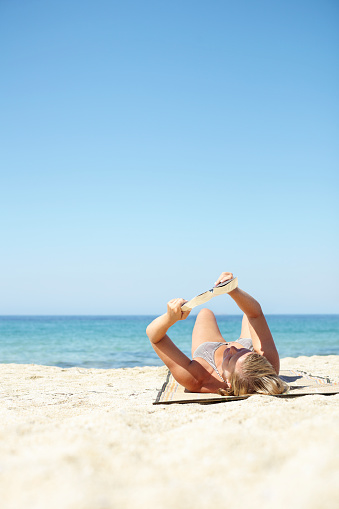deitado: (129, 264, 281, 394)
